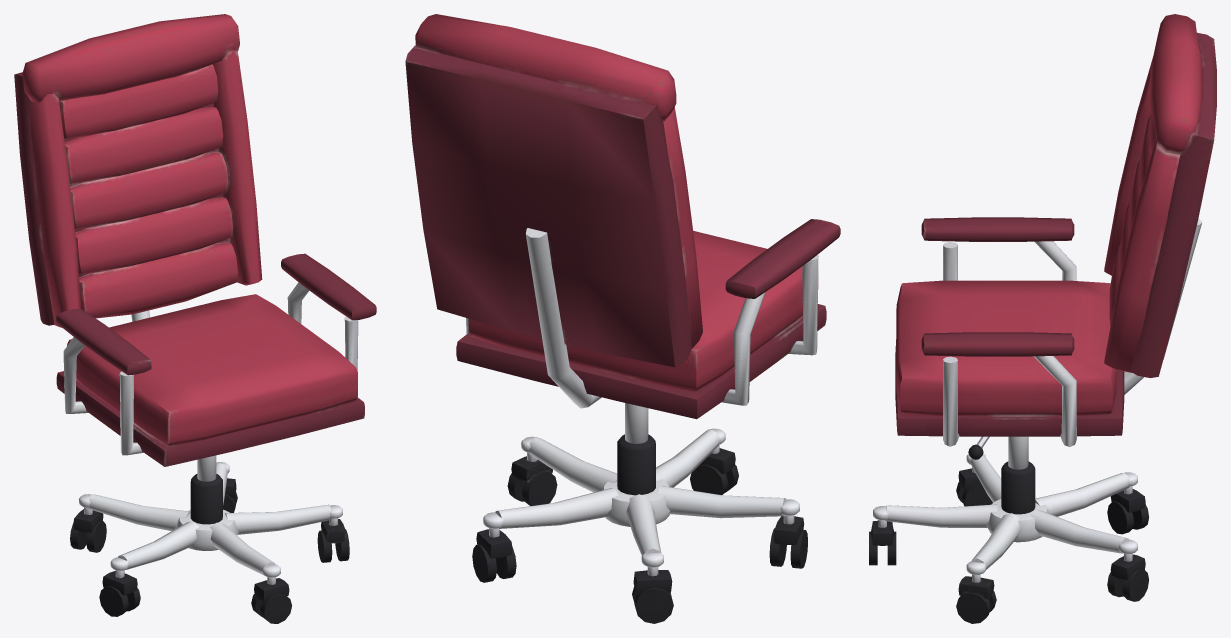
The model's file is chair.glb.
3 views of the same model, side by side, from view 1: azimuth 30°, elevation 25°; view 2: azimuth 150°, elevation 25°; view 3: azimuth 270°, elevation 25° (orthographic). The views are drawn at different scales.
Visible parts, largest first — view 1: body; view 2: body; view 3: body.
Part boxes in pixels (x1,y1,x2,y2): body: (14,14,376,623); body: (405,14,840,623); body: (869,14,1216,623).
Bounding box in the file's own units: 1.64 × 3 × 1.87.
1 material, 1 textured.
